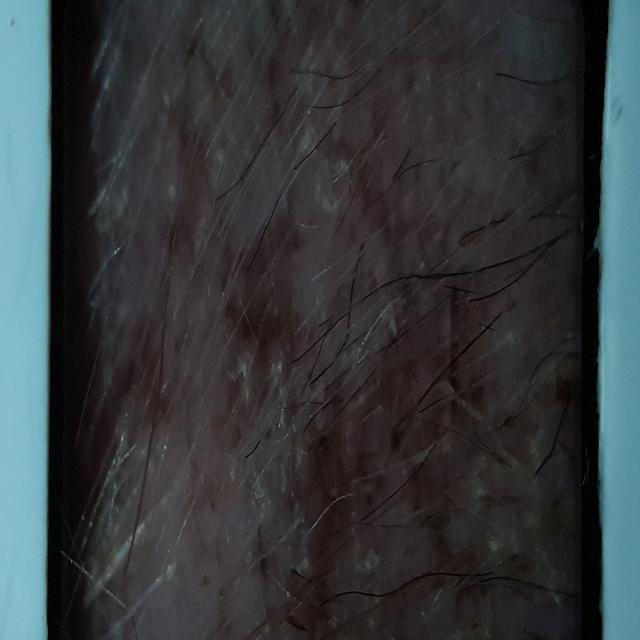fungal infection: (227, 187, 515, 640)
